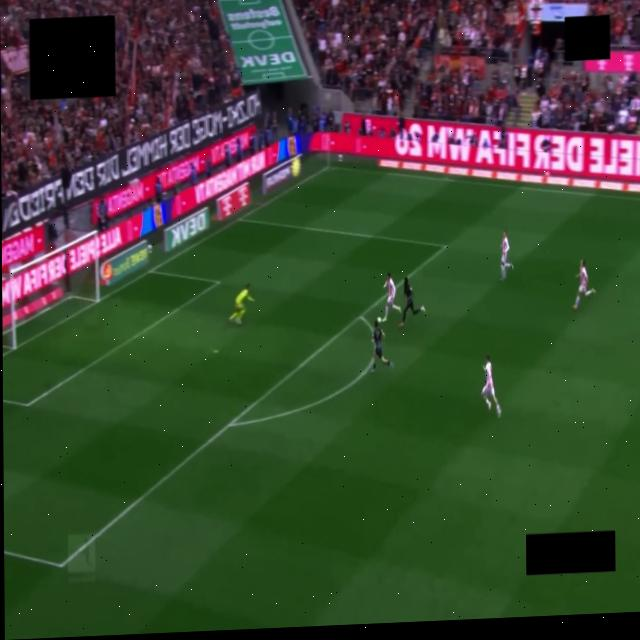ball: (377, 317, 382, 324)
player: (399, 277, 424, 327), (481, 354, 500, 417), (371, 319, 392, 372), (572, 260, 594, 310), (228, 285, 252, 325), (382, 273, 399, 322), (500, 232, 512, 280)
